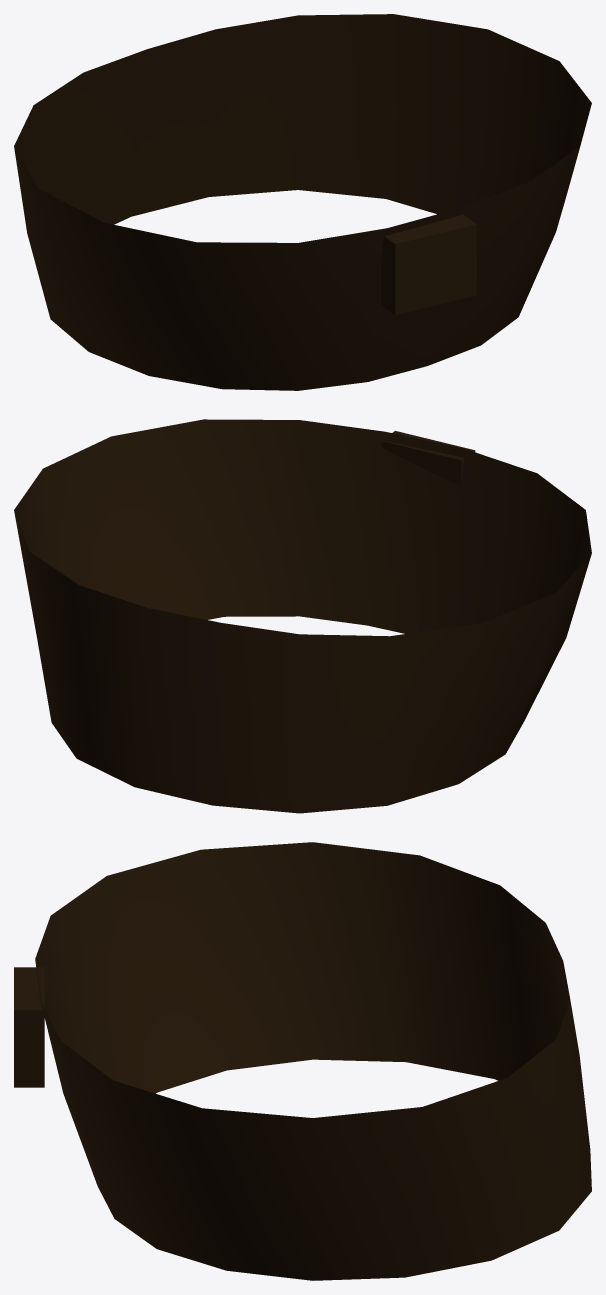
The model's file is bee_armor_belt.glb.
The picture shows the model from 3 angles, top to bottom: view 1: azimuth 30°, elevation 25°; view 2: azimuth 150°, elevation 25°; view 3: azimuth 270°, elevation 25°; orthographic projection. The views are drawn at different scales.
Parts seen in each view (by area): view 1: bee_armor_belt; view 2: bee_armor_belt; view 3: bee_armor_belt.
Part boxes in pixels (box(x1,y1,x2,y2)): bee_armor_belt: box(14, 14, 591, 390); bee_armor_belt: box(14, 419, 591, 813); bee_armor_belt: box(14, 842, 591, 1280).
Size of the model in its own units: 0.3841 by 0.1238 by 0.34.
